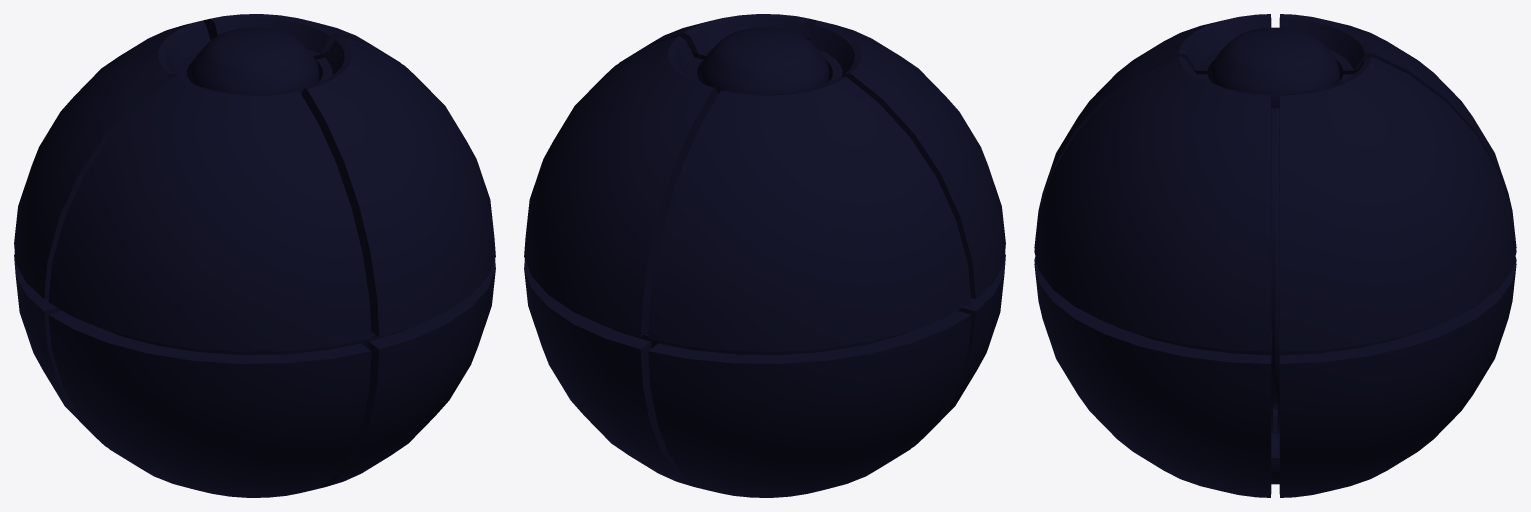
Rendered from Ball.fbx.
The picture shows the model from 3 angles, left to right: view 1: azimuth 30°, elevation 25°; view 2: azimuth 150°, elevation 25°; view 3: azimuth 270°, elevation 25°; orthographic projection.
Parts seen in each view (by area): view 1: Ball_Mesh; view 2: Ball_Mesh; view 3: Ball_Mesh.
Part boxes in pixels (left/top/right/bottom): Ball_Mesh: left=14, top=14, right=495, bottom=497; Ball_Mesh: left=524, top=14, right=1005, bottom=497; Ball_Mesh: left=1034, top=14, right=1516, bottom=497.
Size of the model in its own units: 49.79 by 49.42 by 49.79.
